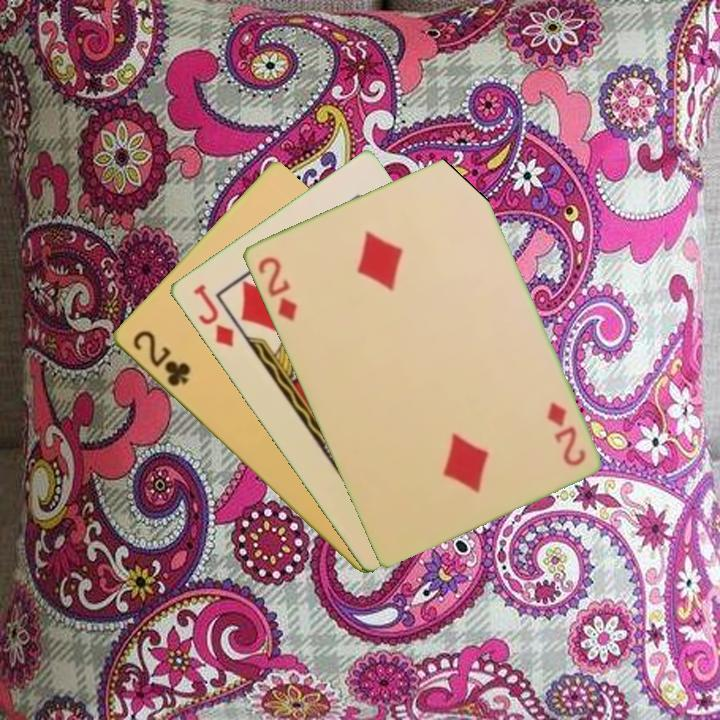2c: (128, 327, 193, 390)
2d: (253, 252, 300, 324), (543, 398, 588, 469)
Jd: (189, 280, 237, 350)
